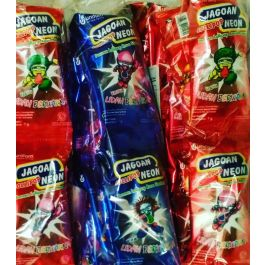jagoan_neon: (76, 13, 163, 139), (186, 130, 250, 262), (111, 139, 180, 257), (189, 1, 250, 133), (15, 135, 74, 265), (15, 4, 72, 135)
